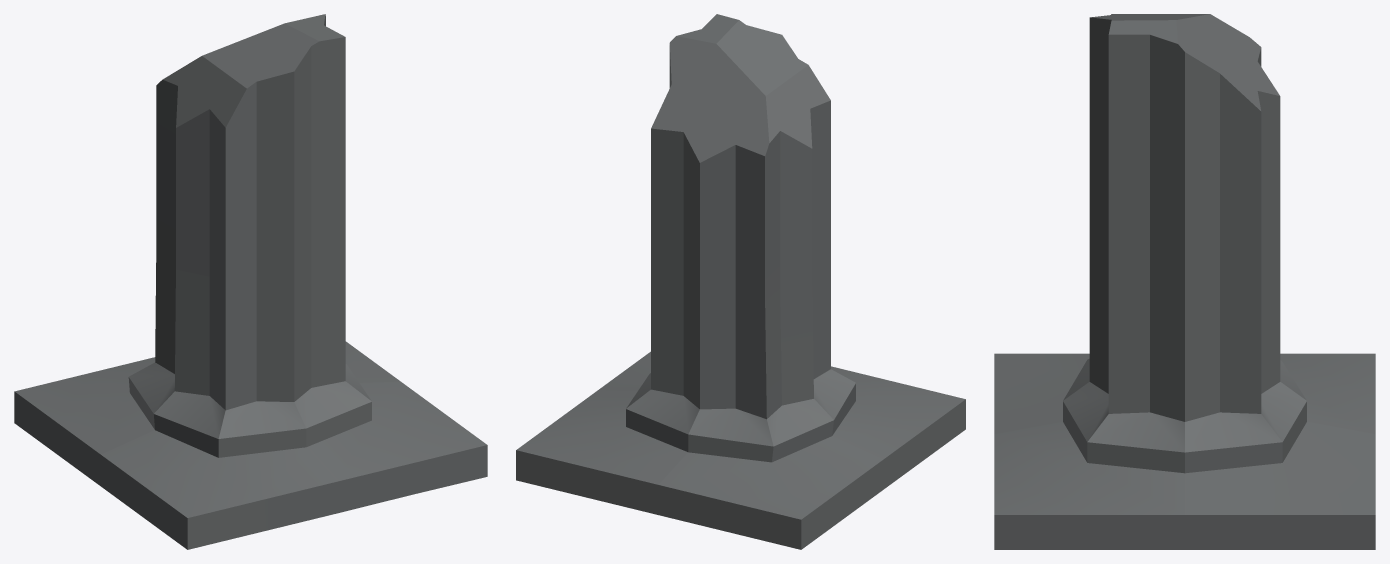
The model's file is PillarBroken5.fbx.
The picture shows the model from 3 angles, left to right: view 1: azimuth 30°, elevation 25°; view 2: azimuth 150°, elevation 25°; view 3: azimuth 270°, elevation 25°; orthographic projection. The views are drawn at different scales.
Parts seen in each view (by area): view 1: S. Pillar 1; view 2: S. Pillar 1; view 3: S. Pillar 1.
Part boxes in pixels (x1,y1,x2,y2): S. Pillar 1: [14, 14, 487, 549]; S. Pillar 1: [516, 14, 965, 549]; S. Pillar 1: [994, 14, 1375, 549].
Bounding box in the file's own units: 358 × 484 × 358.
